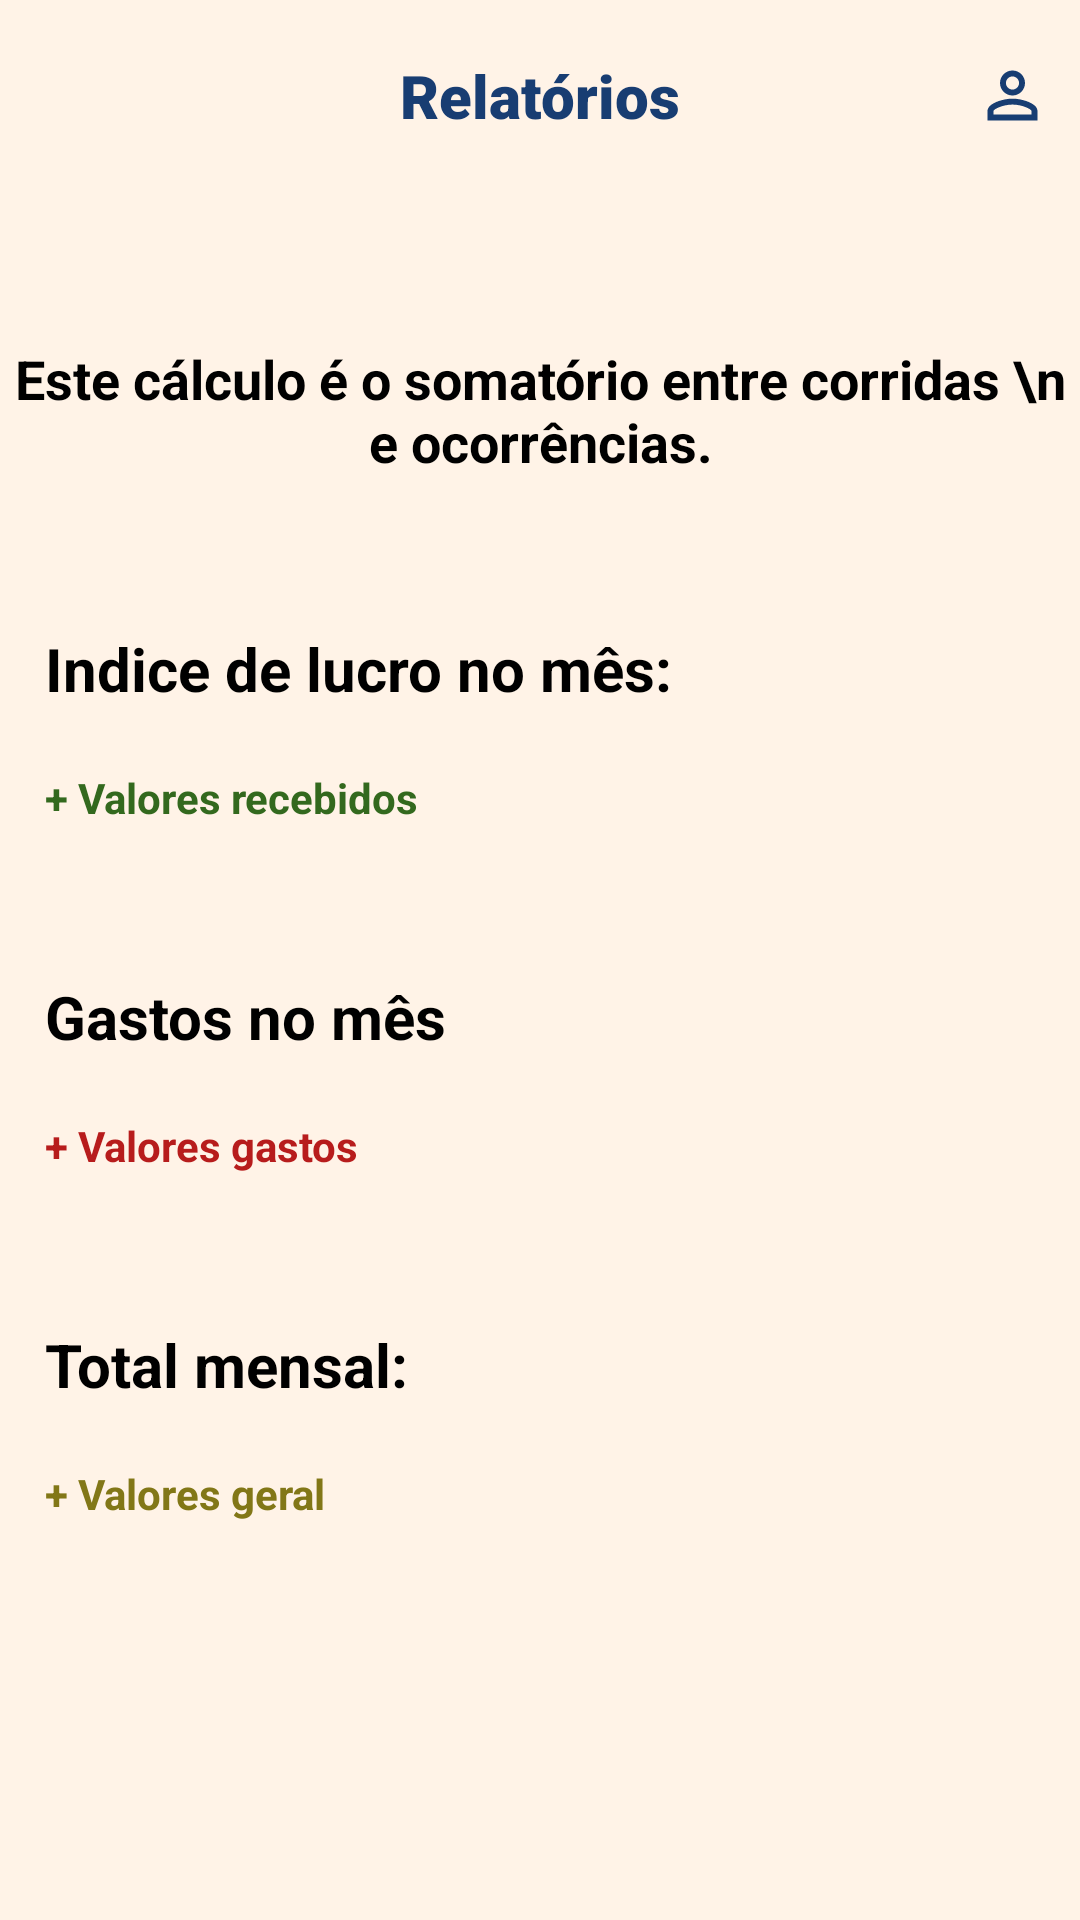

Locate icon controls on the screen. Image size 1080w x 1920h, boxes as box=[x1, y1, x2, y2].
person: box=[987, 70, 1038, 121]
